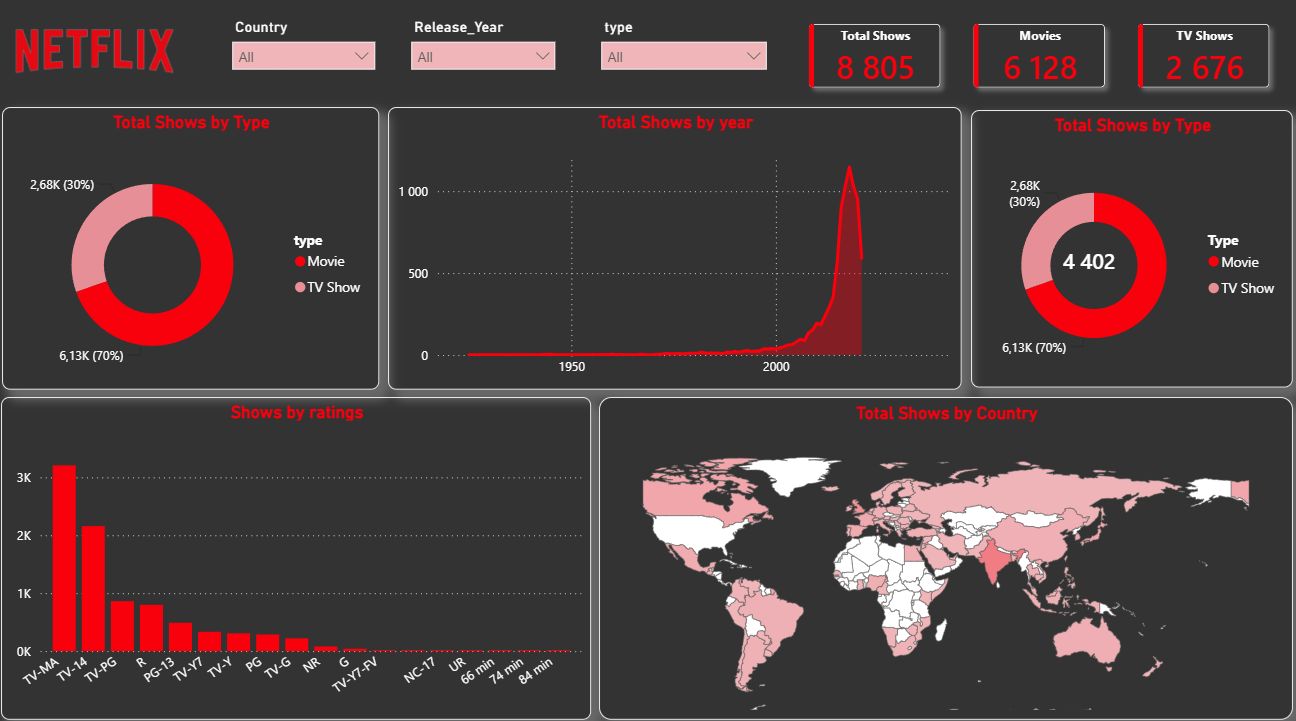

Layout of this report page (visuals, bound fields, positions):
{"tool":"powerbi","page":{"name":"Page 1","canvas":[1280,720],"ordinal":0},"visuals":[{"type":"cardVisual","fields":{"Data":["Measure.Total Shows","Measure.Movies","Measure.TV Show"]},"box":[767.4,0,512.6,124.5],"z":0},{"type":"donutChart","title":"Total Shows by Type","fields":{"Category":["netflix_titles (1).type"],"Y":["Count(netflix_titles (1).show_id)"]},"box":[13.6,111.9,366.7,275.3],"z":1000},{"type":"stackedAreaChart","title":"Total Shows by year","fields":{"Y":["Count(netflix_titles (1).show_id)"],"Category":["netflix_titles (1).release_year"]},"box":[389.1,111.9,558.3,275.3],"z":2000},{"type":"donutChart","title":"Total Shows by Type","fields":{"Category":["netflix_titles (1).type"],"Y":["Count(netflix_titles (1).show_id)"]},"box":[956.1,114.8,313.2,270.4],"z":3000},{"type":"cardVisual","fields":{"Data":["Measure.Total Director"]},"box":[1014.5,224.7,113.8,68.1],"z":4000},{"type":"clusteredColumnChart","title":"Shows by ratings","fields":{"Category":["netflix_titles (1).rating"],"Y":["Count(netflix_titles (1).show_id)"]},"box":[12.6,393.9,573.9,314.2],"z":5000},{"type":"shapeMap","title":"Total Shows by Country","fields":{"Category":["netflix_titles (1).Country_new"],"Value":["CountNonNull(netflix_titles (1).show_id)"]},"box":[594.3,393.9,675,314.2],"z":6000},{"type":"slicer","fields":{"Values":["netflix_titles (1).type"]},"box":[586.5,20.4,180.9,73.9],"z":7000},{"type":"slicer","fields":{"Values":["netflix_titles (1).release_year"]},"box":[401.7,20.4,160.5,73.9],"z":8000},{"type":"slicer","fields":{"Values":["netflix_titles (1).Country_new"]},"box":[227.6,20.4,158.5,73.9],"z":9000},{"type":"image","box":[21.4,10.7,164.4,92.4],"z":9001}]}

Visuals, with their boxes in screenshot pixels (x1, y1, x2, y2), scaled from the page's 1280x720 canvas onto the 1296x721 screenshot:
cardVisual - Measure.Total Shows x Measure.Movies: bbox(777, 0, 1295, 125)
"Total Shows by Type" donutChart: bbox(14, 112, 385, 388)
"Total Shows by year" stackedAreaChart: bbox(394, 112, 959, 388)
"Total Shows by Type" donutChart: bbox(968, 115, 1285, 386)
cardVisual - Measure.Total Director: bbox(1027, 225, 1142, 293)
"Shows by ratings" clusteredColumnChart: bbox(13, 394, 594, 709)
"Total Shows by Country" shapeMap: bbox(602, 394, 1285, 709)
slicer - netflix_titles (1).type: bbox(594, 20, 777, 94)
slicer - netflix_titles (1).release_year: bbox(407, 20, 569, 94)
slicer - netflix_titles (1).Country_new: bbox(230, 20, 391, 94)
image: bbox(22, 11, 188, 103)
